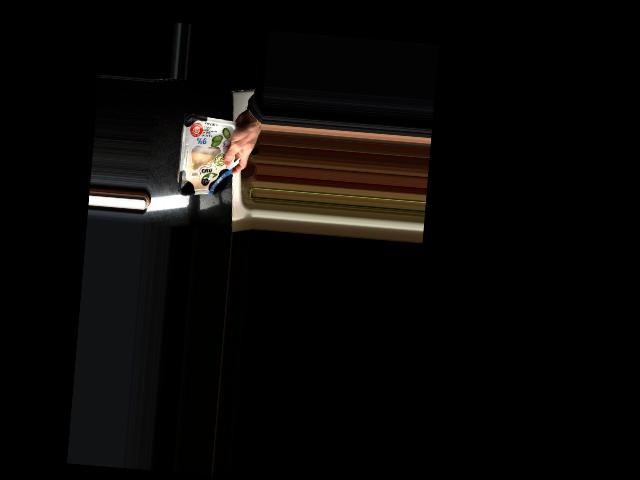cheese: (177, 113, 243, 198)
